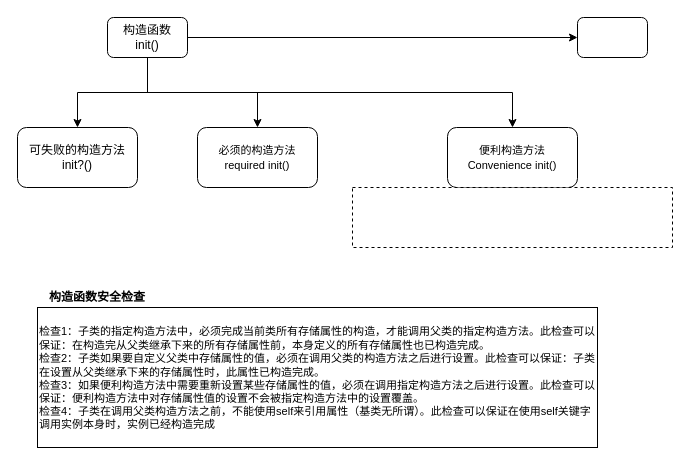
Image size: 690x465. Some labels were removed from this diagram. Here are the shapes that lost their labels. From the top down, the centre of each, then its label:
point (612, 37): 析构函数 deinit()
point (512, 217): 子类的指定构造方法中必须调用父类的指定构造方法。 便利构造方法中必须调用当前类的其他构造方法。 便利构造方法归根结底要调用到某个指定构造方法。
